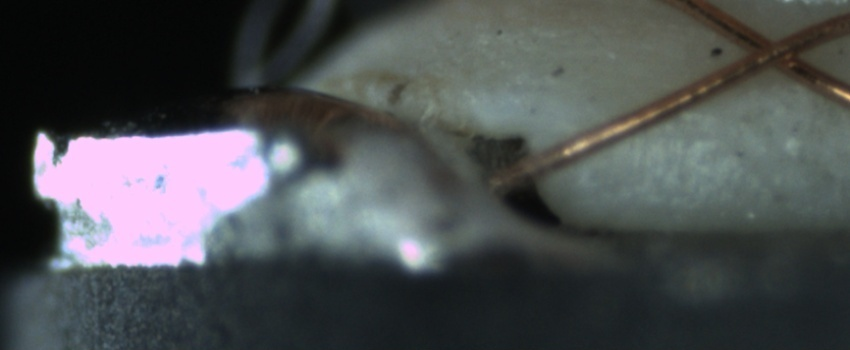CL: (721, 16, 824, 81)
